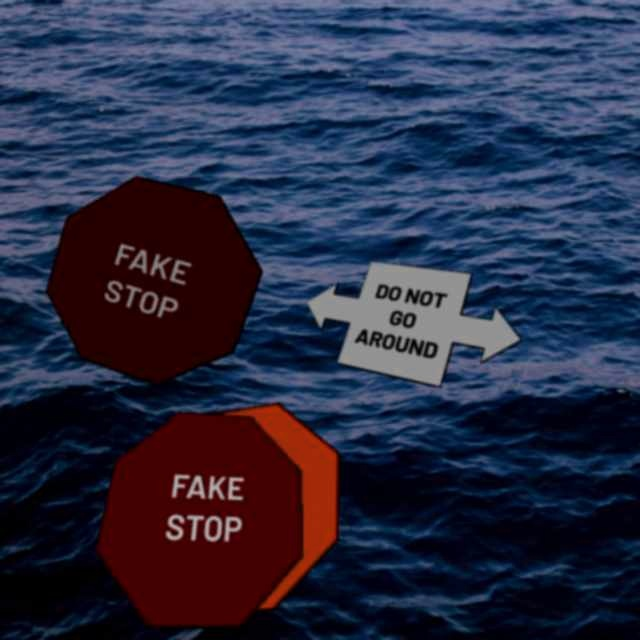DO_NOT_GO_AROUND: (305, 260, 523, 388)
FAKE_STOP: (45, 175, 263, 386), (94, 411, 303, 629)
STOP: (128, 402, 340, 620)
